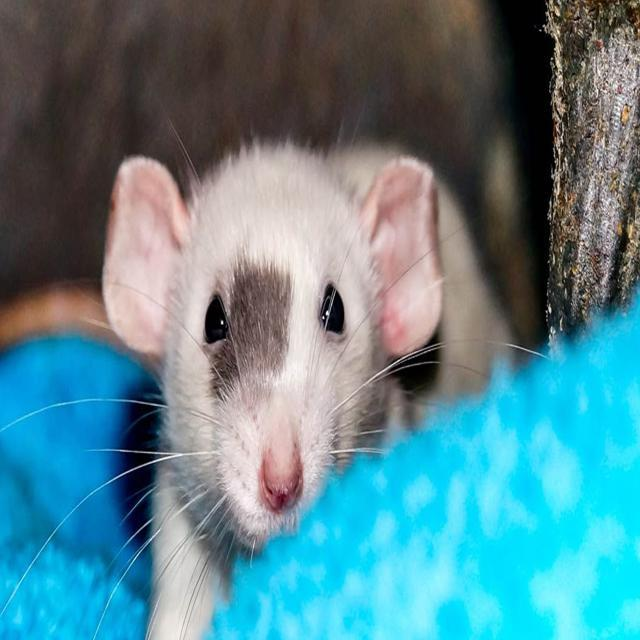rat: (93, 132, 487, 565)
